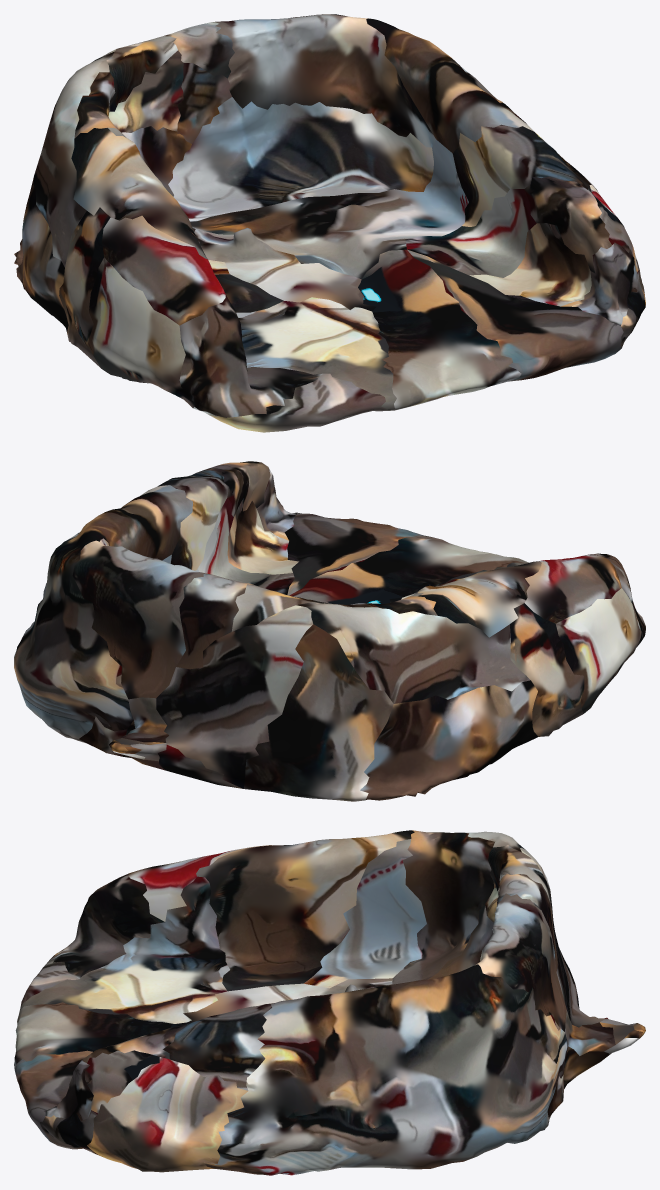
File: 3DModel.obj
3 renders of one model, top to bottom at view 1: azimuth 30°, elevation 25°; view 2: azimuth 150°, elevation 25°; view 3: azimuth 270°, elevation 25°, orthographic. The views are drawn at different scales.
Visible parts, largest first — view 1: submesh; view 2: submesh; view 3: submesh.
Part boxes in pixels (x1,y1,x2,y2): submesh: (14,14,645,432); submesh: (14,461,645,801); submesh: (14,830,645,1175).
Size of the model in its own units: 0.0985 by 0.0371 by 0.1141.
